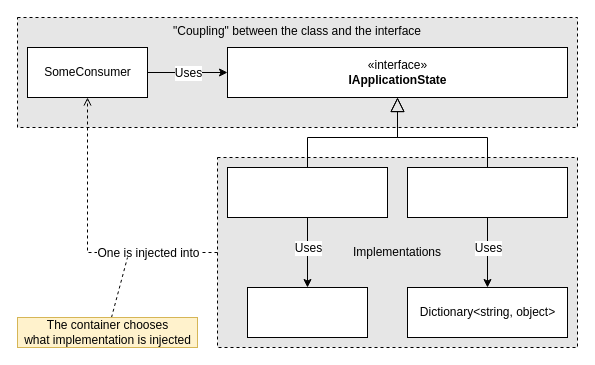
This 595x365 diagram has some shape labels left out. The shapes that lost their labels are listed below. From the top down, each one's centre as x and y in pixels, then its label:
At point (307, 192): "ApplicationMemoryCache".
At point (487, 192): "ApplicationDictionary".
At point (307, 312): "«interface» IMemoryCache".
